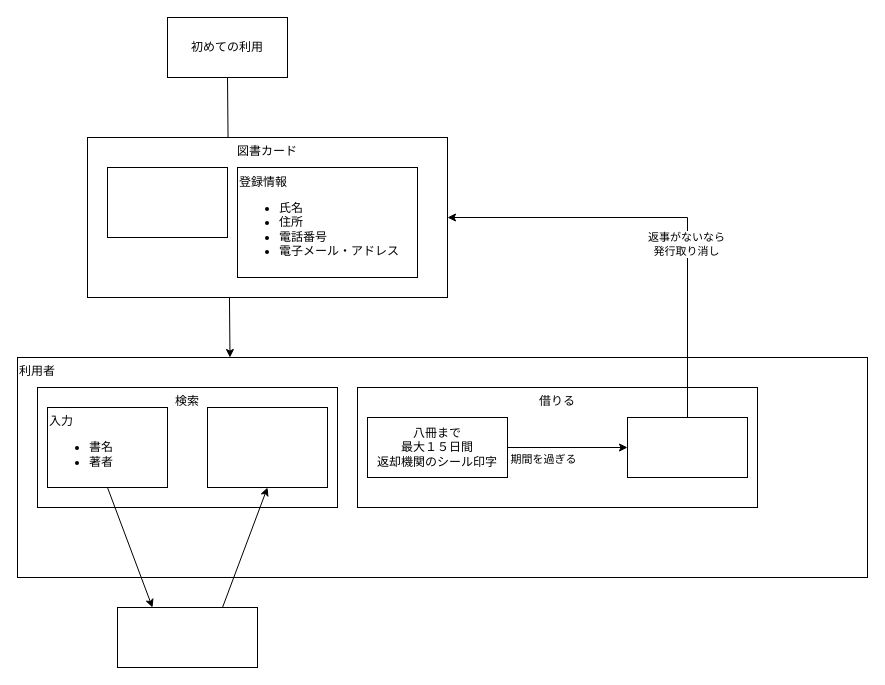
Some shapes in this 885 by 685 pixel diagram are drawn without their labels. The centre of each missing label's shape, as x and y in pixels:
さいそく: point 687,447
出力 貸し出し中か どこにあるか: point 267,447
利用者用コンピューター: point 187,637
発行情報 IDナンバー パスワード: point 167,202
